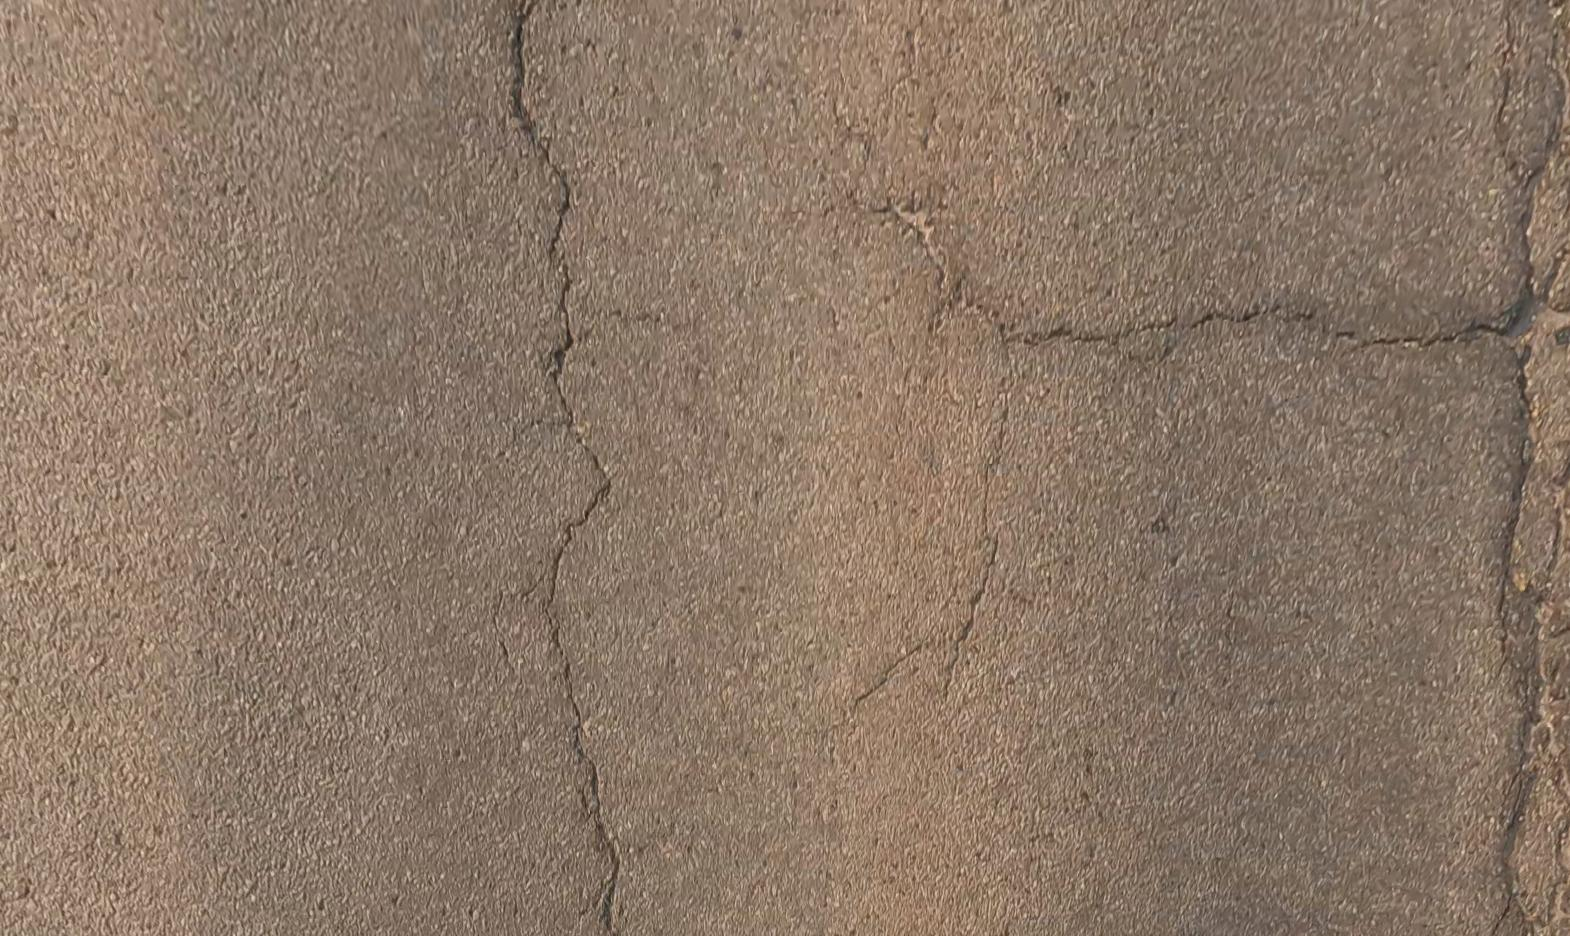pothole: (1511, 295, 1570, 357)
